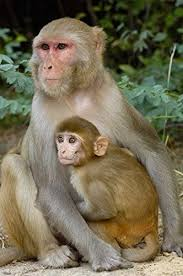monkey: (7, 12, 128, 258), (53, 120, 172, 255)
